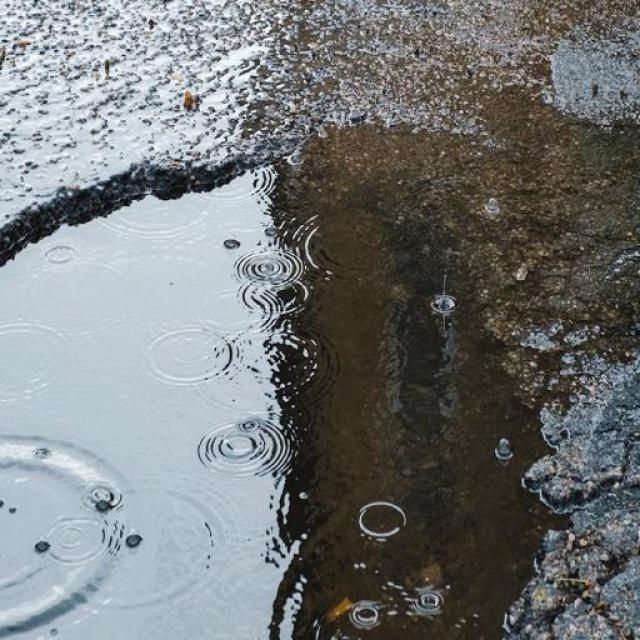puddle: (2, 228, 549, 640), (236, 115, 634, 370)
